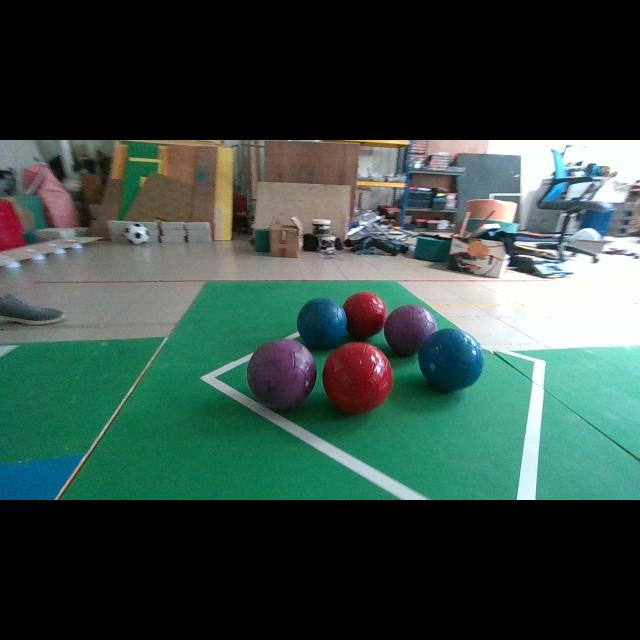B: (419, 329, 484, 391), (299, 300, 346, 348)
P: (248, 339, 316, 409), (384, 305, 438, 356)
R: (322, 341, 394, 414), (344, 291, 388, 339)
